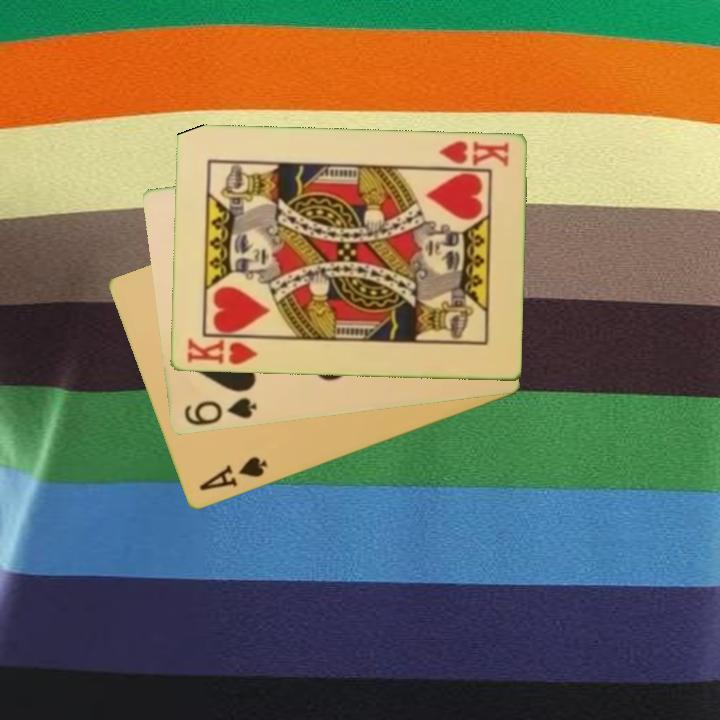6s: (180, 394, 260, 429)
As: (195, 453, 271, 494)
Kh: (183, 334, 264, 368), (432, 137, 512, 171)
